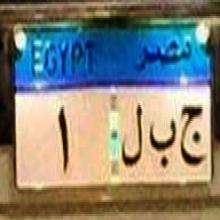1: (54, 105, 73, 173)
baa: (148, 112, 176, 166)
jeem: (178, 99, 207, 168)
laam: (119, 103, 146, 172)
